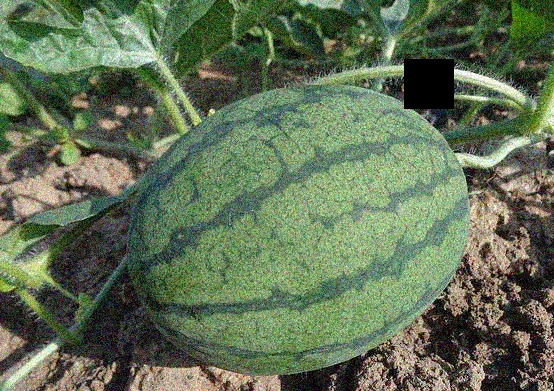watermelon: (127, 75, 467, 373)
